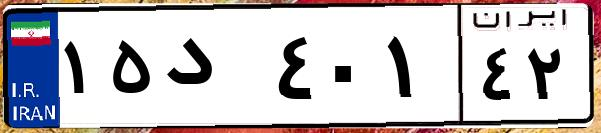0: (330, 28, 385, 110)
1: (385, 28, 445, 110), (57, 26, 110, 100)
2: (525, 38, 570, 115)
4: (270, 28, 330, 110), (475, 38, 525, 113)
5: (110, 28, 158, 98)
د: (158, 20, 270, 120)
